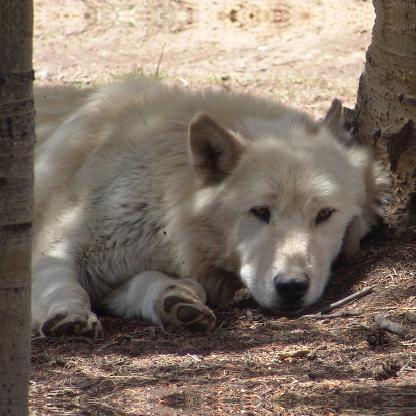Dog: (30, 81, 394, 341)
